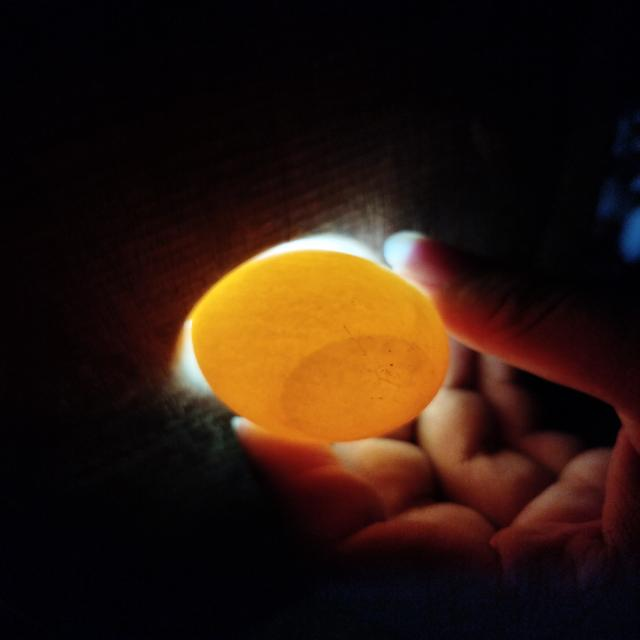Camara de Ar: (282, 335, 440, 442)
Rachadura: (367, 378, 402, 407)
